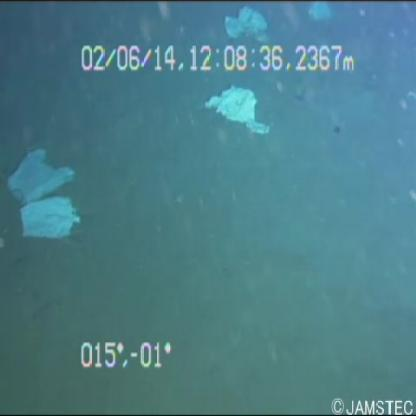Rác: (7, 132, 87, 256), (198, 72, 275, 150), (214, 2, 273, 50)
